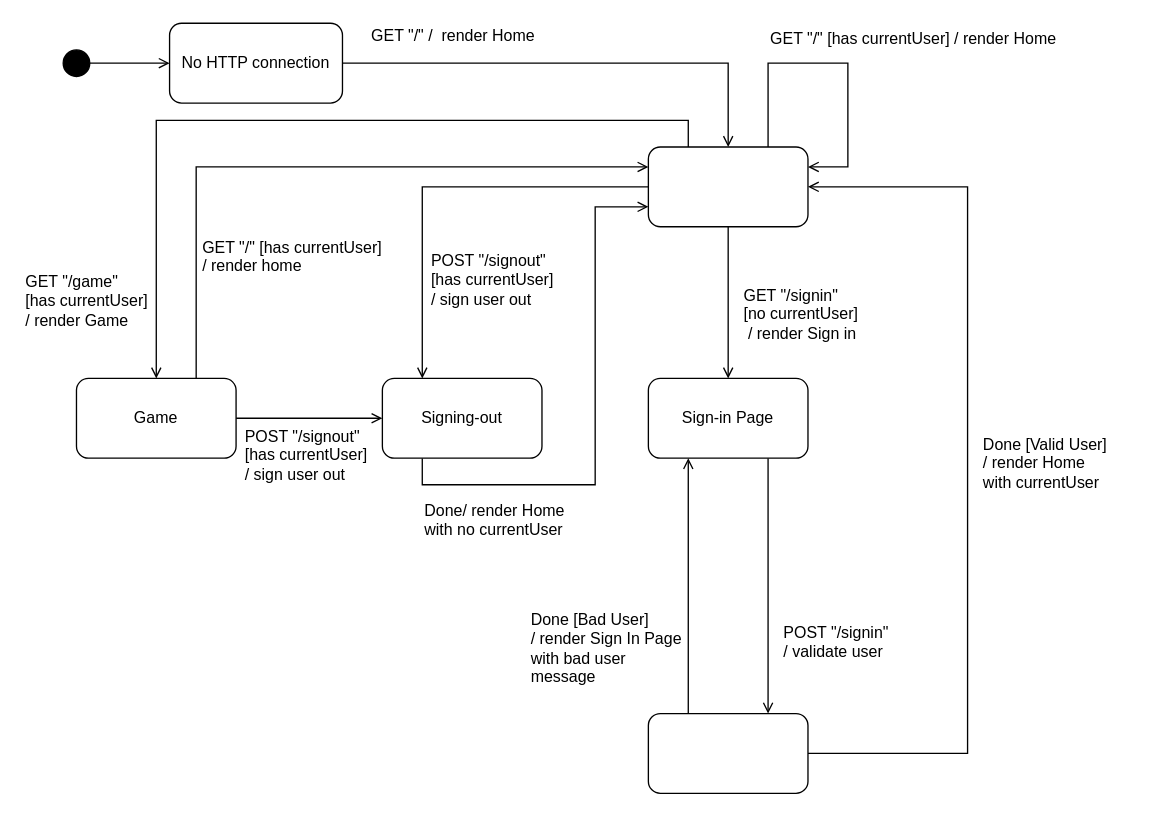
Some shapes in this 1149 by 817 pixel diagram are drawn without their labels. Each missing label, with the box of its shape:
Home: (647, 146, 808, 227)
User Validation: (647, 712, 808, 793)
